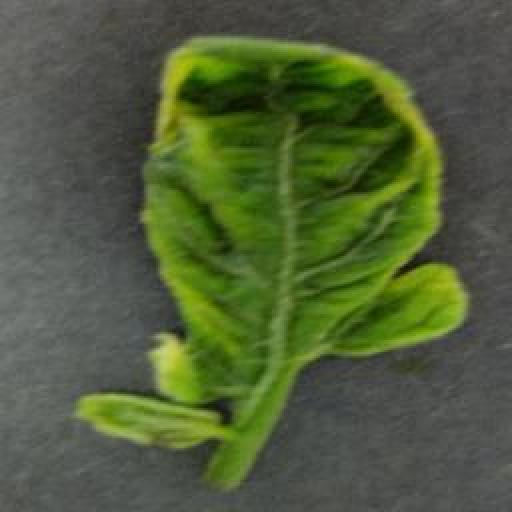disease_tomato: (138, 32, 470, 405)
